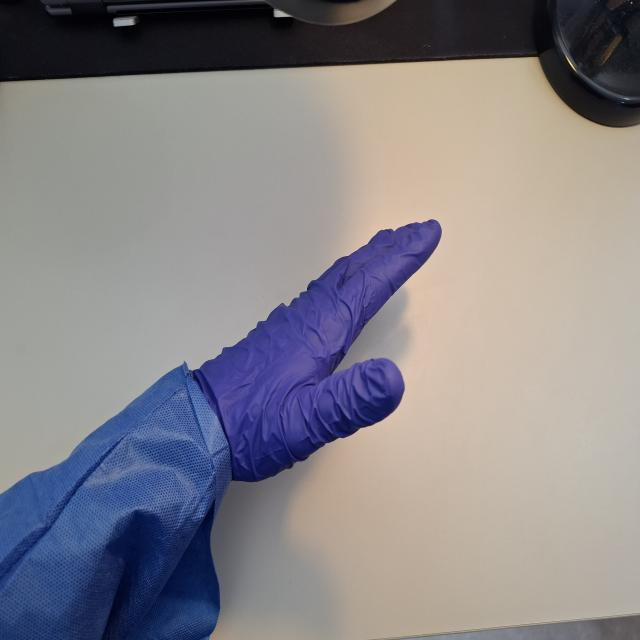glove_on: (190, 215, 444, 486)
